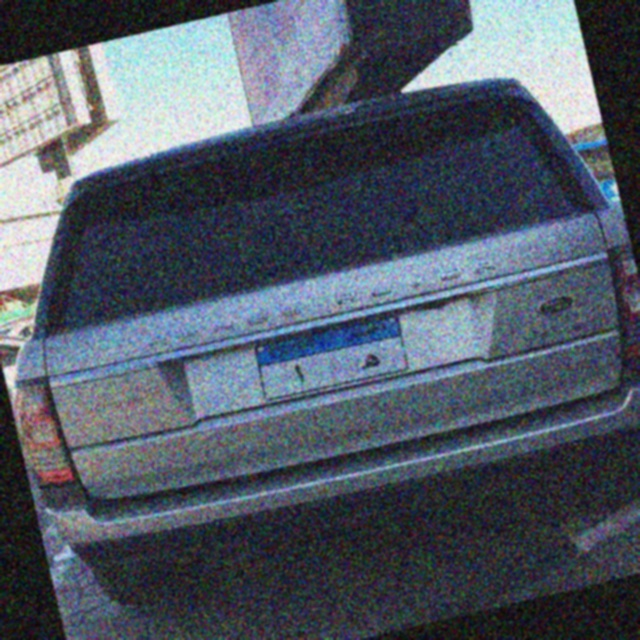License Plate: (250, 309, 413, 406)
